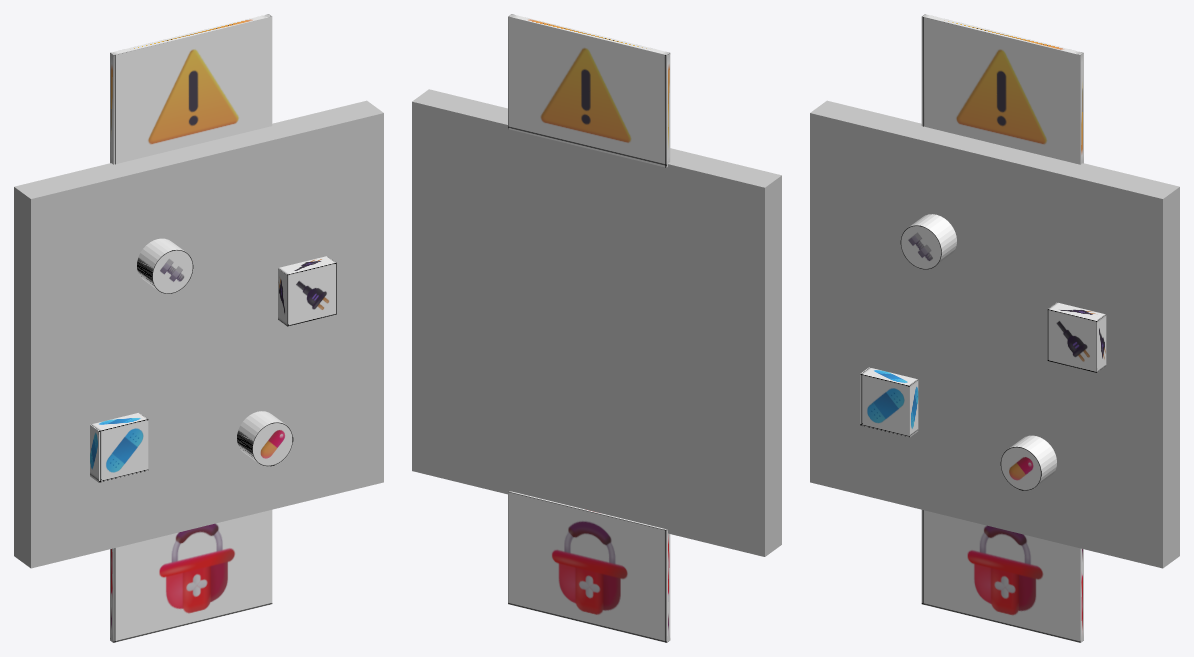
The model's file is octagon_table.glb.
3 renders of one model, left to right at view 1: azimuth 30°, elevation 25°; view 2: azimuth 150°, elevation 25°; view 3: azimuth 330°, elevation 25°, orthographic.
Visible parts, largest first — view 1: Cube, Cube.001, Cube.002, Cube.003, Cube.004, Cylinder.001, Cylinder; view 2: Cube, Cube.001, Cube.002; view 3: Cube, Cube.001, Cube.002, Cube.003, Cube.004, Cylinder, Cylinder.001.
Part boxes in pixels (left/top/right/bottom): Cube: left=14, top=100, right=383, bottom=568; Cube.001: left=110, top=14, right=272, bottom=164; Cube.002: left=110, top=510, right=272, bottom=642; Cube.003: left=278, top=256, right=336, bottom=326; Cube.004: left=90, top=412, right=148, bottom=482; Cylinder.001: left=237, top=411, right=293, bottom=466; Cylinder: left=137, top=238, right=193, bottom=293; Cube: left=412, top=89, right=781, bottom=556; Cube.001: left=508, top=14, right=670, bottom=167; Cube.002: left=508, top=491, right=670, bottom=642; Cube: left=810, top=100, right=1179, bottom=568; Cube.001: left=921, top=14, right=1083, bottom=164; Cube.002: left=921, top=510, right=1083, bottom=642; Cube.003: left=1047, top=302, right=1106, bottom=372; Cube.004: left=860, top=367, right=918, bottom=437; Cylinder: left=900, top=214, right=956, bottom=269; Cylinder.001: left=1000, top=435, right=1056, bottom=490.
Size of the model in its own units: 1.2 by 1.91 by 0.1957.
Materials: 7 (6 with a texture image).
